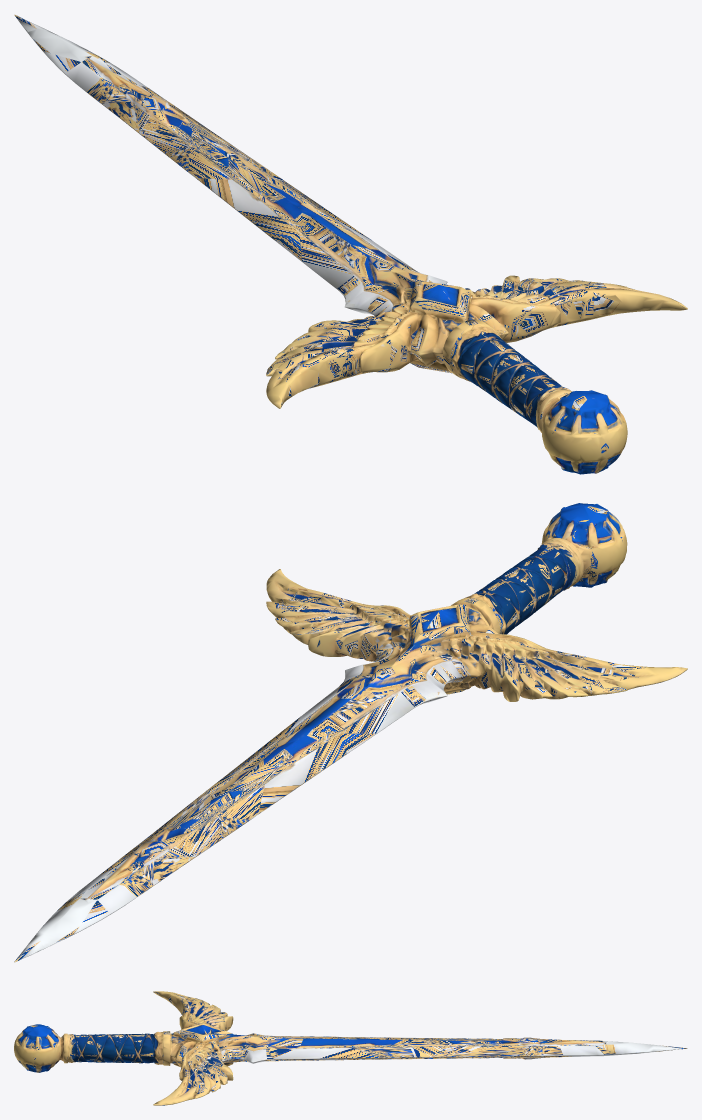
File: great-sword.glb
3 renders of one model, top to bottom at view 1: azimuth 30°, elevation 25°; view 2: azimuth 150°, elevation 25°; view 3: azimuth 270°, elevation 25°, orthographic. The views are drawn at different scales.
Visible parts, largest first — view 1: fantasy-sword; view 2: fantasy-sword; view 3: fantasy-sword.
Part boxes in pixels (left/top/right/bottom): fantasy-sword: left=14, top=14, right=687, bottom=474; fantasy-sword: left=14, top=503, right=687, bottom=962; fantasy-sword: left=14, top=991, right=687, bottom=1105.
Bounding box in the file's own units: 0.4384 × 0.0863 × 1.1.
Materials: 1 (1 with a texture image).
